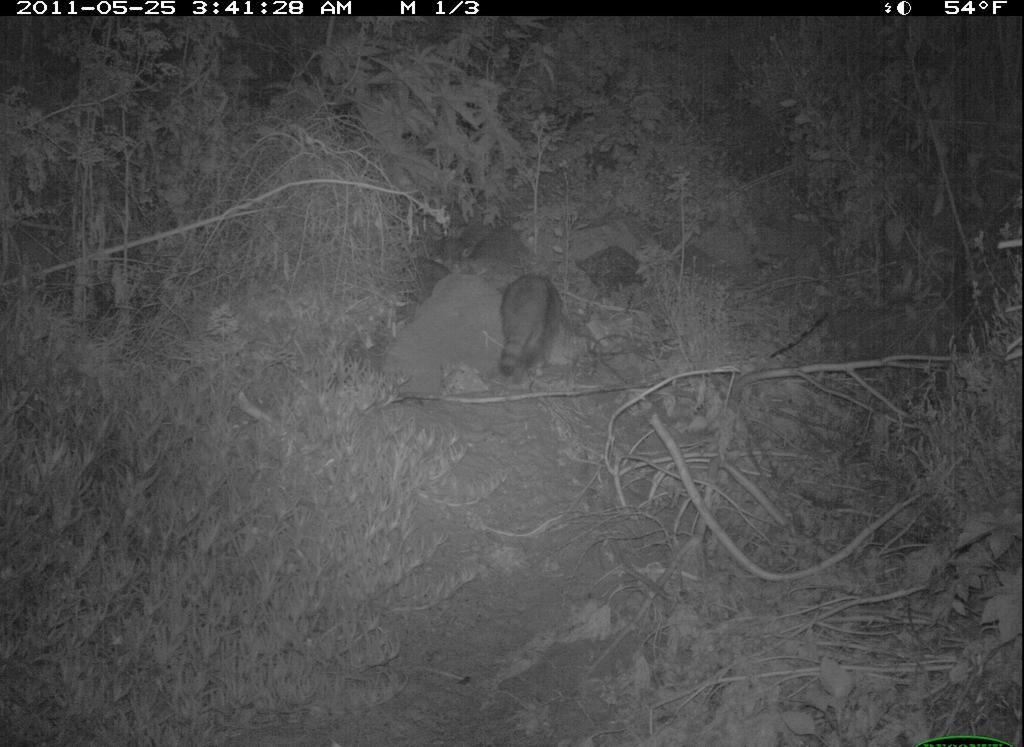raccoon: (493, 269, 569, 386)
